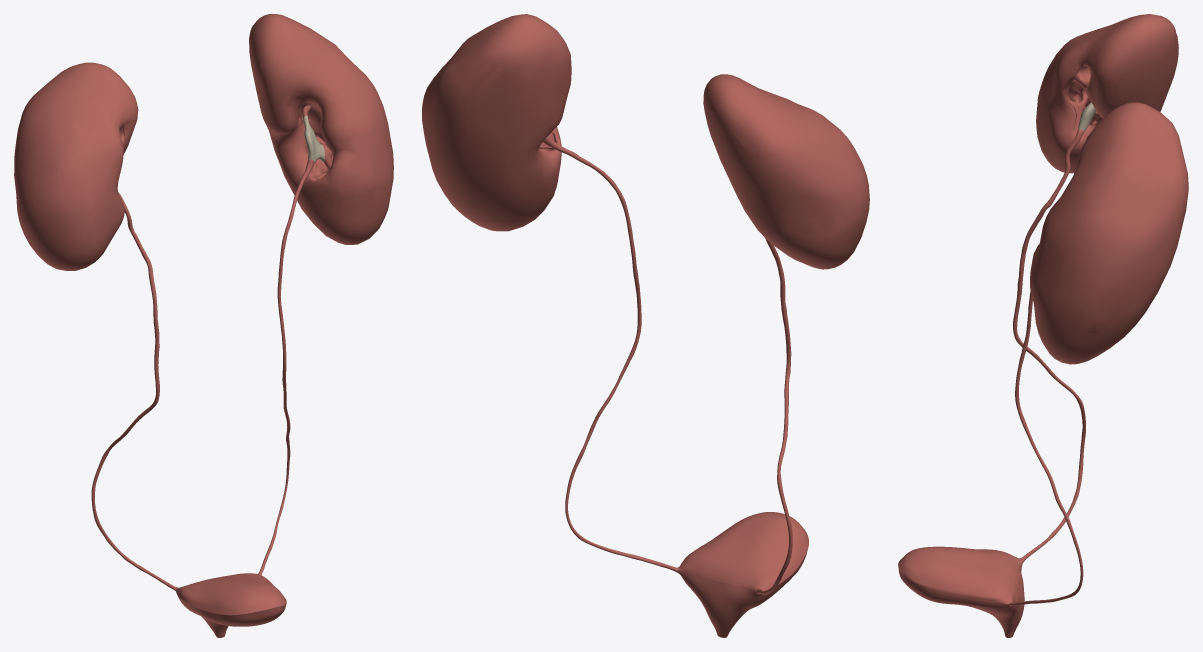
File: adult_female.urinary.LOD1.glb
The picture shows the model from 3 angles, left to right: view 1: azimuth 30°, elevation 25°; view 2: azimuth 150°, elevation 25°; view 3: azimuth 270°, elevation 25°; orthographic projection. The views are drawn at different scales.
Visible parts, largest first — view 1: ADULT.FEMALE.URINARY.KIDNEY_CAPSULE.L, ADULT.FEMALE.URINARY.KIDNEY_CAPSULE.R, ADULT.FEMALE.URINARY.FUNDUS_OF_URINARY_BLADDER_DOME, ADULT.FEMALE.URINARY.URETER.R, ADULT.FEMALE.URINARY.URETER.L, ADULT.FEMALE.URINARY.FUNDUS_OF_URINARY_BLADDER_BASE, ADULT.FEMALE.URINARY.HILUM_OF_KIDNEY.L, ADULT.FEMALE.URINARY.RENAL_PELVIS.L; view 2: ADULT.FEMALE.URINARY.KIDNEY_CAPSULE.L, ADULT.FEMALE.URINARY.KIDNEY_CAPSULE.R, ADULT.FEMALE.URINARY.FUNDUS_OF_URINARY_BLADDER_DOME, ADULT.FEMALE.URINARY.FUNDUS_OF_URINARY_BLADDER_BASE, ADULT.FEMALE.URINARY.URETER.L, ADULT.FEMALE.URINARY.URETER.R; view 3: ADULT.FEMALE.URINARY.KIDNEY_CAPSULE.L, ADULT.FEMALE.URINARY.KIDNEY_CAPSULE.R, ADULT.FEMALE.URINARY.FUNDUS_OF_URINARY_BLADDER_DOME, ADULT.FEMALE.URINARY.URETER.R, ADULT.FEMALE.URINARY.FUNDUS_OF_URINARY_BLADDER_BASE, ADULT.FEMALE.URINARY.URETER.L, ADULT.FEMALE.URINARY.HILUM_OF_KIDNEY.R.
Boxes of the visible parts, x1,y1,x2,y2 form: ADULT.FEMALE.URINARY.KIDNEY_CAPSULE.L: (249, 14, 393, 244); ADULT.FEMALE.URINARY.KIDNEY_CAPSULE.R: (14, 62, 138, 270); ADULT.FEMALE.URINARY.FUNDUS_OF_URINARY_BLADDER_DOME: (175, 573, 286, 615); ADULT.FEMALE.URINARY.URETER.R: (91, 192, 177, 590); ADULT.FEMALE.URINARY.URETER.L: (258, 159, 314, 575); ADULT.FEMALE.URINARY.FUNDUS_OF_URINARY_BLADDER_BASE: (177, 594, 285, 633); ADULT.FEMALE.URINARY.HILUM_OF_KIDNEY.L: (299, 102, 333, 178); ADULT.FEMALE.URINARY.RENAL_PELVIS.L: (303, 115, 324, 162); ADULT.FEMALE.URINARY.KIDNEY_CAPSULE.L: (422, 14, 571, 231); ADULT.FEMALE.URINARY.KIDNEY_CAPSULE.R: (703, 74, 869, 269); ADULT.FEMALE.URINARY.FUNDUS_OF_URINARY_BLADDER_DOME: (677, 512, 808, 591); ADULT.FEMALE.URINARY.FUNDUS_OF_URINARY_BLADDER_BASE: (677, 550, 807, 633); ADULT.FEMALE.URINARY.URETER.L: (543, 135, 678, 572); ADULT.FEMALE.URINARY.URETER.R: (757, 238, 792, 594); ADULT.FEMALE.URINARY.KIDNEY_CAPSULE.L: (1030, 102, 1188, 364); ADULT.FEMALE.URINARY.KIDNEY_CAPSULE.R: (1036, 14, 1178, 173); ADULT.FEMALE.URINARY.FUNDUS_OF_URINARY_BLADDER_DOME: (898, 546, 1023, 603); ADULT.FEMALE.URINARY.URETER.R: (1013, 129, 1085, 562); ADULT.FEMALE.URINARY.FUNDUS_OF_URINARY_BLADDER_BASE: (898, 562, 1024, 632); ADULT.FEMALE.URINARY.URETER.L: (1008, 290, 1083, 606); ADULT.FEMALE.URINARY.HILUM_OF_KIDNEY.R: (1065, 65, 1101, 136).
Bounding box in the file's own units: 0.2219 × 0.3186 × 0.1418.
